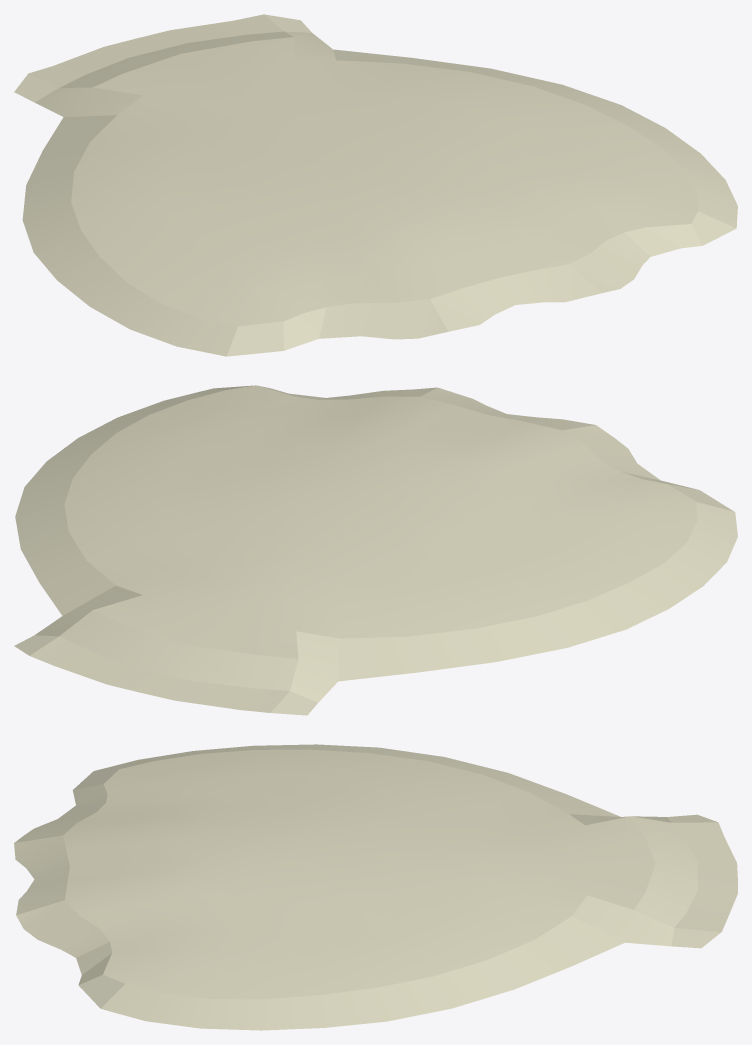
The model's file is MeshCollision.fbx.
3 views of the same model, one above another, from view 1: azimuth 30°, elevation 25°; view 2: azimuth 150°, elevation 25°; view 3: azimuth 270°, elevation 25° (orthographic). The views are drawn at different scales.
Parts seen in each view (by area): view 1: TerrenoTropico; view 2: TerrenoTropico; view 3: TerrenoTropico.
Boxes of the visible parts, left/top/right/bottom form: TerrenoTropico: left=14, top=14, right=737, bottom=356; TerrenoTropico: left=14, top=385, right=737, bottom=715; TerrenoTropico: left=14, top=744, right=737, bottom=1030.
Bounding box in the file's own units: 6845 × 421 × 7354.
